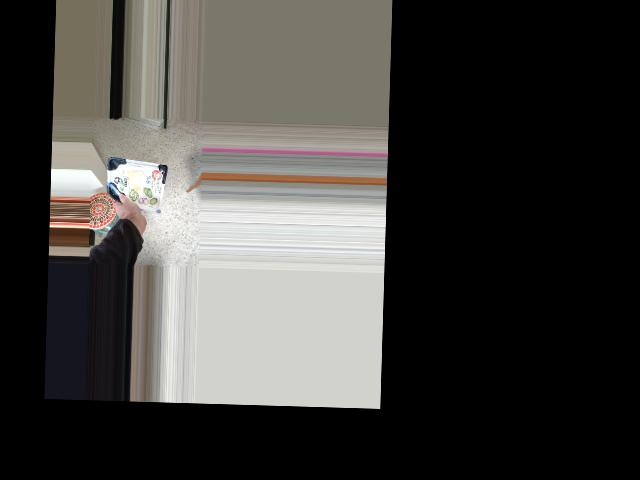cheese: (113, 174, 166, 222)
